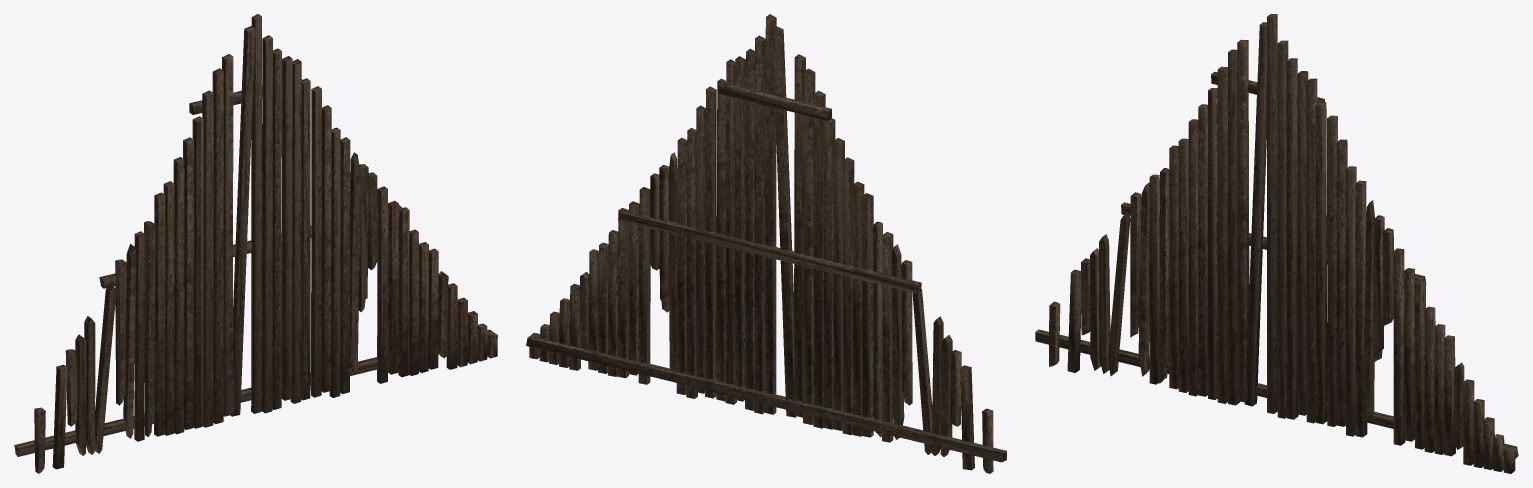
File: HORSE_P_WoodenFrame02_05.fbx
The picture shows the model from 3 angles, left to right: view 1: azimuth 30°, elevation 25°; view 2: azimuth 150°, elevation 25°; view 3: azimuth 330°, elevation 25°; orthographic projection.
Visible parts, largest first — view 1: HORSE_P_WoodenFrame02_05; view 2: HORSE_P_WoodenFrame02_05; view 3: HORSE_P_WoodenFrame02_05.
Boxes of the visible parts, x1,y1,x2,y2 form: HORSE_P_WoodenFrame02_05: (14, 14, 497, 473); HORSE_P_WoodenFrame02_05: (526, 14, 1006, 473); HORSE_P_WoodenFrame02_05: (1035, 14, 1518, 473).
Size of the model in its own units: 547 by 441 by 15.32.
